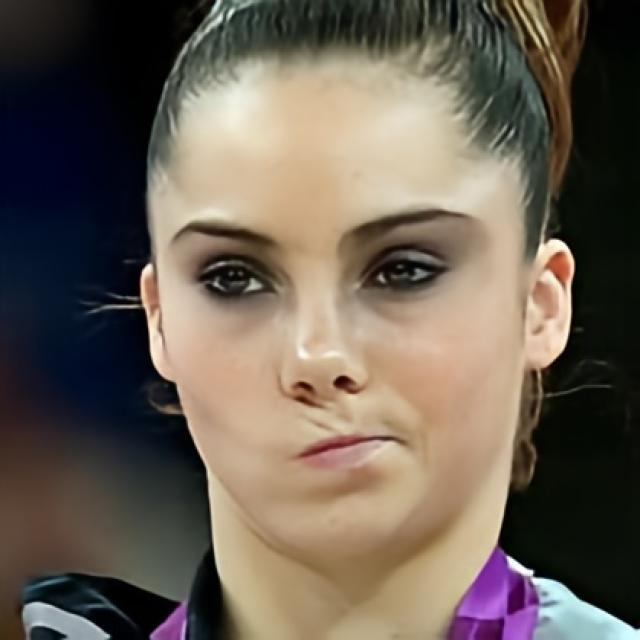neutral: (153, 45, 527, 568)
